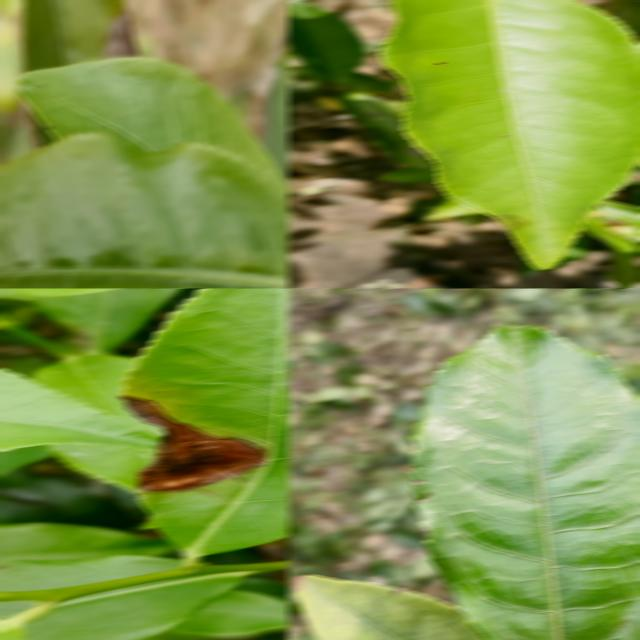Leaf: (411, 326, 640, 640), (381, 0, 640, 268), (120, 288, 290, 563), (0, 133, 290, 288), (17, 57, 283, 181), (32, 354, 164, 491), (21, 571, 245, 640), (0, 368, 155, 451), (291, 574, 484, 640), (31, 288, 182, 353), (20, 0, 139, 71), (286, 0, 365, 86), (0, 555, 176, 589), (168, 589, 290, 636), (261, 47, 290, 184), (0, 599, 30, 619)
